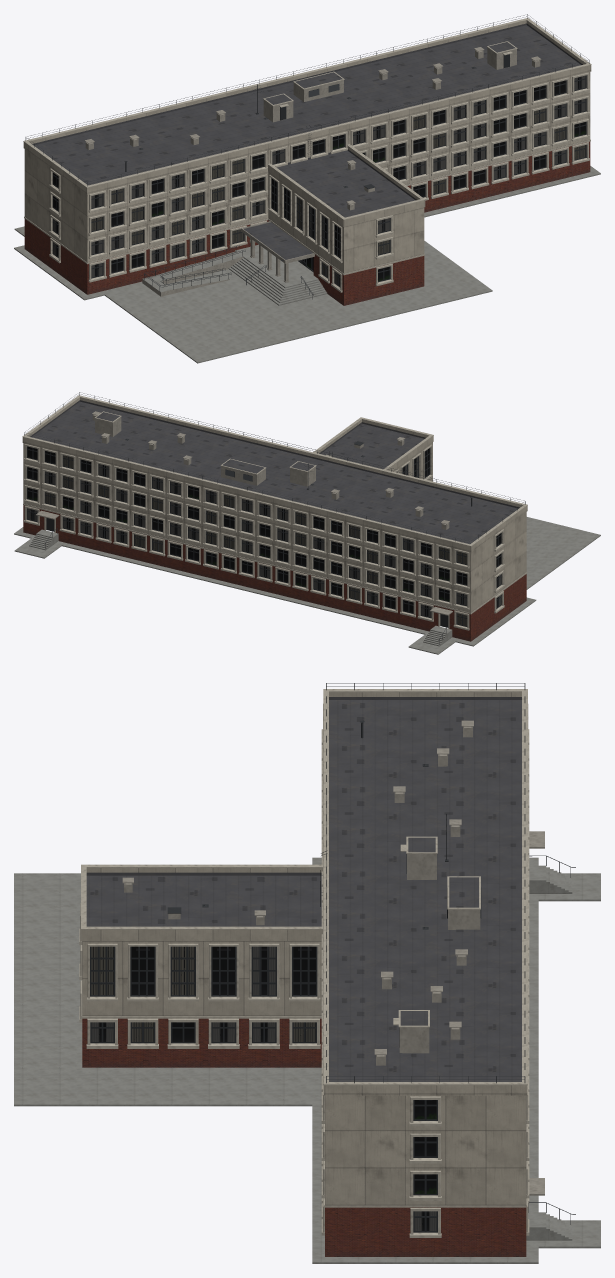
The model's file is SovietSchool.obj.
3 views of the same model, one above another, from view 1: azimuth 30°, elevation 25°; view 2: azimuth 150°, elevation 25°; view 3: azimuth 270°, elevation 25° (orthographic). The views are drawn at different scales.
Visible parts, largest first — view 1: SovietSchool_1970s/Roof/Roof_Surfaces, SovietSchool_1970s/Building/MainWing_Walls, SovietSchool_1970s/Site/Site_Paving, SovietSchool_1970s/Windows/MainWing_Window_Surrounds, SovietSchool_1970s/Building/Facade_Trim, SovietSchool_1970s/Windows/MainWing_Window_Glass, SovietSchool_1970s/Building/EntranceBlock_Walls, SovietSchool_1970s/Windows/MainWing_Window_Frames, SovietSchool_1970s/Roof/Roof_Structures, SovietSchool_1970s/Entrance/Entrance_Landing_Stairs, SovietSchool_1970s/Windows/EntranceBlock_Window_Surrounds, SovietSchool_1970s/Ramp/Ramp_Structure (+6 smaller); view 2: SovietSchool_1970s/Roof/Roof_Surfaces, SovietSchool_1970s/Building/MainWing_Walls, SovietSchool_1970s/Windows/MainWing_Window_Surrounds, SovietSchool_1970s/Windows/MainWing_Window_Glass, SovietSchool_1970s/Building/Facade_Trim, SovietSchool_1970s/Windows/MainWing_Window_Frames, SovietSchool_1970s/Site/Site_Paving, SovietSchool_1970s/Roof/Roof_Structures, SovietSchool_1970s/Roof/Roof_Railing, SovietSchool_1970s/RearExits/RearExit_Porches, SovietSchool_1970s/Windows/EntranceBlock_Window_Surrounds; view 3: SovietSchool_1970s/Roof/Roof_Surfaces, SovietSchool_1970s/Site/Site_Paving, SovietSchool_1970s/Building/MainWing_Walls, SovietSchool_1970s/Building/Facade_Trim, SovietSchool_1970s/Building/EntranceBlock_Walls, SovietSchool_1970s/Windows/EntranceBlock_Window_Glass, SovietSchool_1970s/Roof/Roof_Structures, SovietSchool_1970s/Windows/EntranceBlock_Window_Surrounds, SovietSchool_1970s/Windows/EntranceBlock_Window_Frames, SovietSchool_1970s/Windows/MainWing_Window_Surrounds, SovietSchool_1970s/RearExits/RearExit_Porches, SovietSchool_1970s/Windows/MainWing_Window_Glass (+2 smaller).
Part boxes in pixels (box(x1,y1,x2,y2)): SovietSchool_1970s/Roof/Roof_Surfaces: box(34, 25, 581, 217); SovietSchool_1970s/Building/MainWing_Walls: box(24, 72, 590, 294); SovietSchool_1970s/Site/Site_Paving: box(14, 166, 600, 363); SovietSchool_1970s/Windows/MainWing_Window_Surrounds: box(49, 72, 589, 282); SovietSchool_1970s/Building/Facade_Trim: box(23, 18, 591, 275); SovietSchool_1970s/Windows/MainWing_Window_Glass: box(53, 75, 585, 277); SovietSchool_1970s/Building/EntranceBlock_Walls: box(268, 172, 424, 305); SovietSchool_1970s/Windows/MainWing_Window_Frames: box(52, 75, 586, 278); SovietSchool_1970s/Roof/Roof_Structures: box(84, 41, 541, 210); SovietSchool_1970s/Entrance/Entrance_Landing_Stairs: box(228, 244, 327, 305); SovietSchool_1970s/Windows/EntranceBlock_Window_Surrounds: box(268, 175, 424, 292); SovietSchool_1970s/Ramp/Ramp_Structure: box(142, 251, 243, 296); SovietSchool_1970s/Roof/Roof_Surfaces: box(31, 401, 518, 544); SovietSchool_1970s/Building/MainWing_Walls: box(23, 443, 526, 641); SovietSchool_1970s/Windows/MainWing_Window_Surrounds: box(24, 444, 504, 630); SovietSchool_1970s/Windows/MainWing_Window_Glass: box(27, 446, 500, 626); SovietSchool_1970s/Building/Facade_Trim: box(22, 395, 527, 628); SovietSchool_1970s/Windows/MainWing_Window_Frames: box(26, 446, 501, 626); SovietSchool_1970s/Site/Site_Paving: box(14, 517, 600, 654); SovietSchool_1970s/Roof/Roof_Structures: box(92, 411, 472, 529); SovietSchool_1970s/Roof/Roof_Railing: box(24, 392, 525, 543); SovietSchool_1970s/RearExits/RearExit_Porches: box(29, 510, 452, 646); SovietSchool_1970s/Windows/EntranceBlock_Window_Surrounds: box(394, 445, 432, 479); SovietSchool_1970s/Roof/Roof_Surfaces: box(86, 700, 521, 1081); SovietSchool_1970s/Site/Site_Paving: box(14, 857, 600, 1263); SovietSchool_1970s/Building/MainWing_Walls: box(325, 1095, 526, 1256); SovietSchool_1970s/Building/Facade_Trim: box(81, 689, 527, 1207); SovietSchool_1970s/Building/EntranceBlock_Walls: box(82, 941, 321, 1067); SovietSchool_1970s/Windows/EntranceBlock_Window_Glass: box(91, 946, 315, 1041); SovietSchool_1970s/Roof/Roof_Structures: box(122, 720, 481, 1065); SovietSchool_1970s/Windows/EntranceBlock_Window_Surrounds: box(79, 903, 320, 1048); SovietSchool_1970s/Windows/EntranceBlock_Window_Frames: box(90, 946, 317, 1043); SovietSchool_1970s/Windows/MainWing_Window_Surrounds: box(321, 704, 529, 1237); SovietSchool_1970s/RearExits/RearExit_Porches: box(526, 831, 572, 1240); SovietSchool_1970s/Windows/MainWing_Window_Glass: box(414, 1100, 436, 1230).
Bounding box in the file's own units: 77 × 18.95 × 47.2.
Materials: 10 (10 with a texture image).
